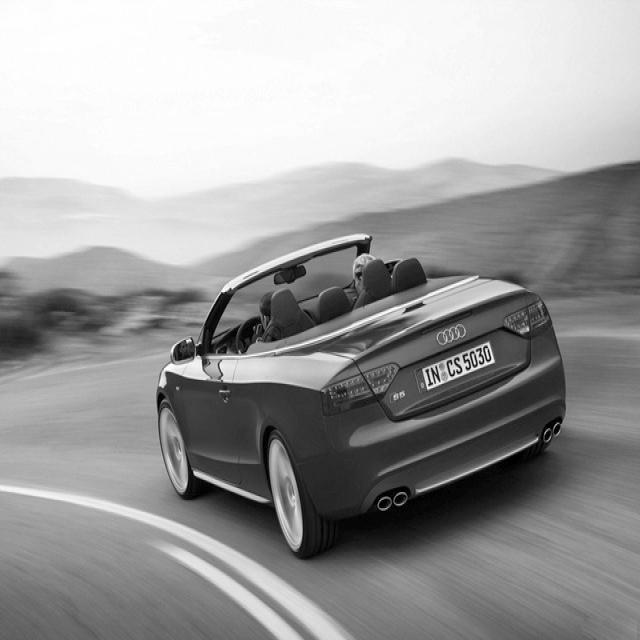car: (155, 232, 566, 559)
plat_license: (419, 338, 496, 391)
